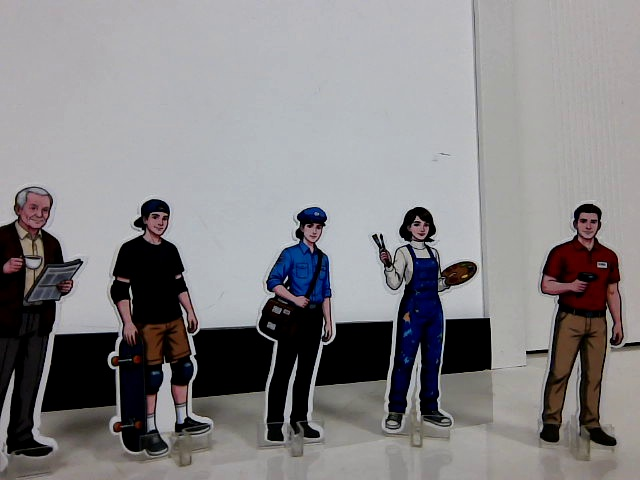community_person: (97, 192, 222, 472), (363, 198, 479, 450), (0, 176, 87, 477), (535, 193, 628, 466), (250, 196, 343, 462)
